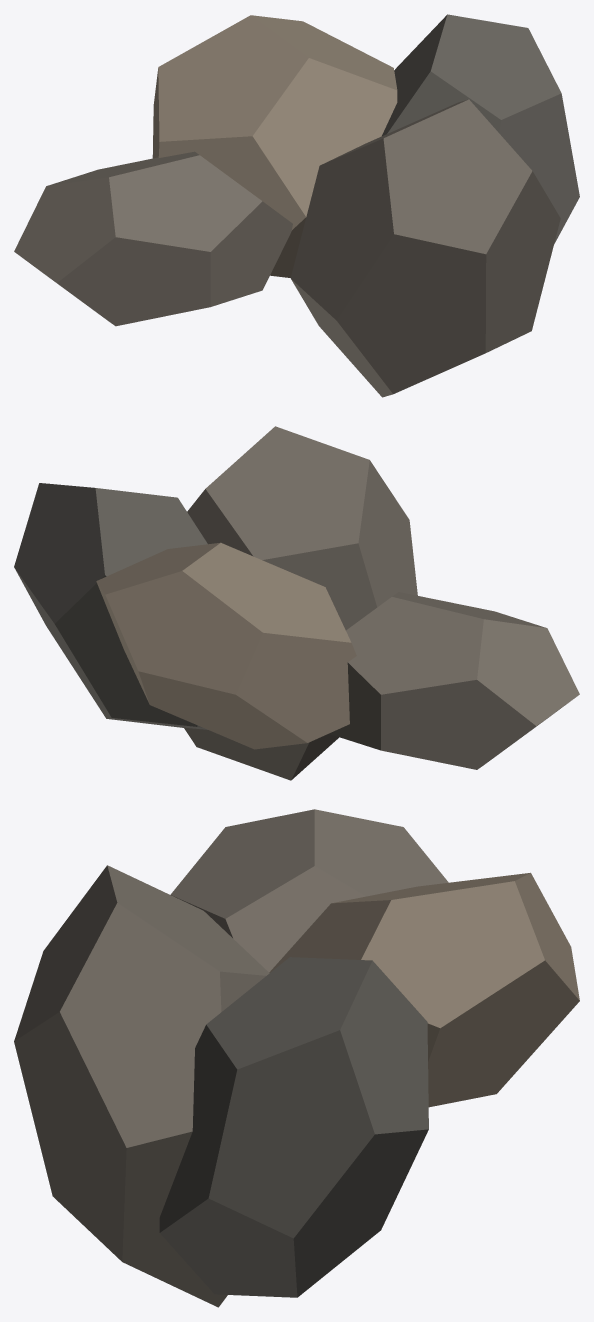
Rendered from rocks.glb.
3 renders of one model, top to bottom at view 1: azimuth 30°, elevation 25°; view 2: azimuth 150°, elevation 25°; view 3: azimuth 270°, elevation 25°, orthographic. The views are drawn at different scales.
Visible parts, largest first — view 1: Harbor rock cluster; view 2: Harbor rock cluster; view 3: Harbor rock cluster.
Part boxes in pixels (x1=…): Harbor rock cluster: x1=14, y1=14, x2=579, y2=397; Harbor rock cluster: x1=14, y1=426, x2=579, y2=780; Harbor rock cluster: x1=14, y1=809, x2=579, y2=1307.
Bounding box in the file's own units: 2.91 × 1.69 × 2.16.
